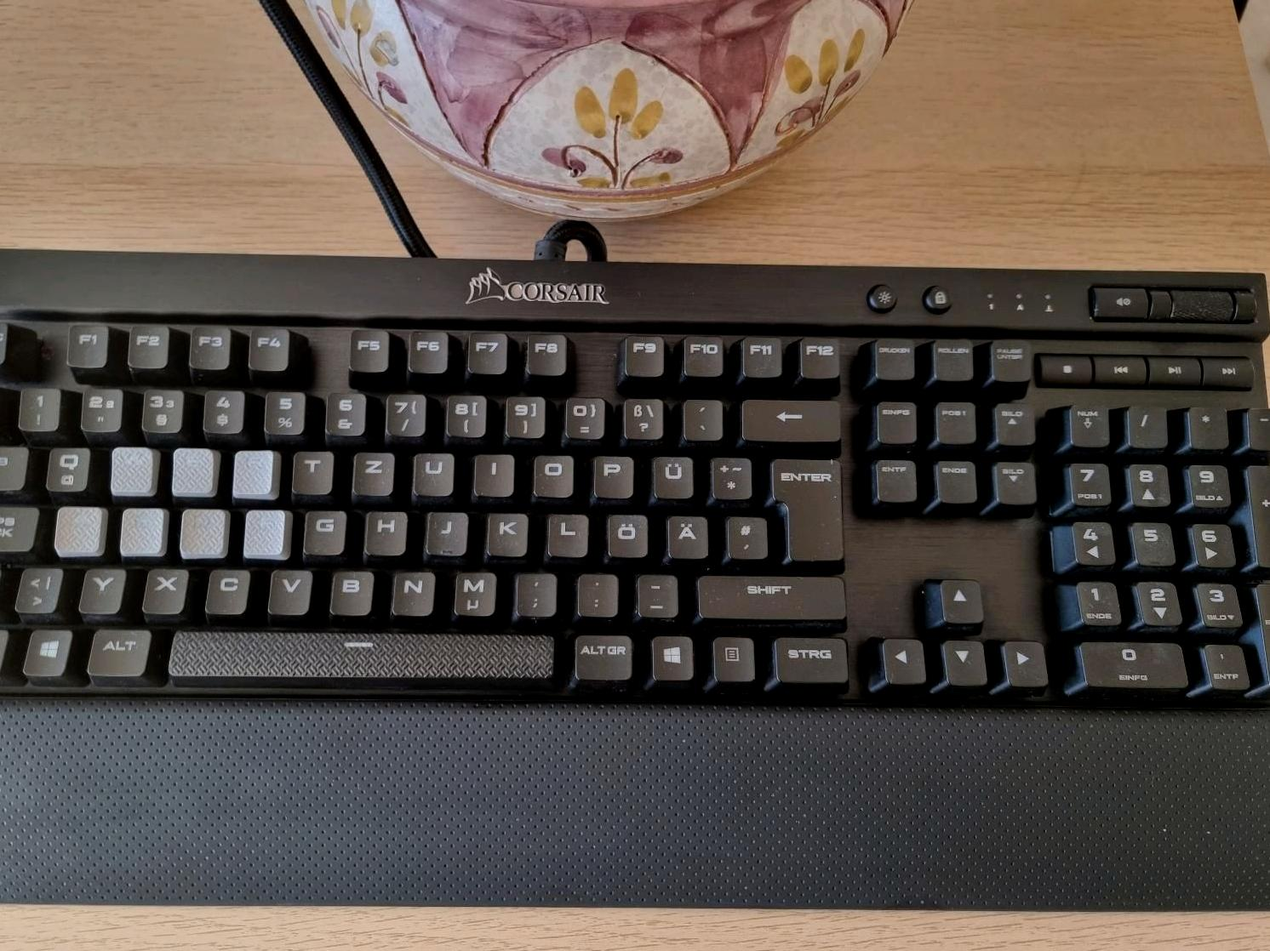0: (561, 393, 607, 438)
1: (16, 384, 60, 430)
2: (77, 385, 123, 432)
3: (139, 386, 185, 433)
4: (201, 386, 245, 432)
5: (261, 388, 306, 434)
6: (323, 388, 368, 436)
7: (384, 390, 427, 436)
8: (443, 392, 488, 437)
9: (502, 392, 546, 437)
a: (52, 504, 104, 555)
accent: (680, 396, 723, 439)
ae: (664, 510, 708, 558)
alt-left: (84, 624, 152, 675)
altgr-right: (570, 630, 634, 680)
b: (328, 567, 374, 613)
c: (203, 566, 250, 612)
caret: (1, 380, 21, 427)
comma: (512, 569, 557, 615)
d: (179, 509, 226, 559)
del: (739, 396, 840, 441)
e: (169, 445, 218, 496)
enter: (767, 453, 844, 561)
f: (241, 507, 289, 557)
g: (302, 506, 346, 554)
h: (363, 508, 408, 554)
hash: (724, 512, 767, 558)
i: (471, 450, 514, 494)
j: (423, 508, 468, 555)
k: (484, 509, 529, 555)
keyboard: (1, 311, 1270, 712)
l: (544, 510, 588, 556)
less: (13, 563, 62, 612)
m: (450, 567, 497, 615)
minus: (633, 571, 678, 616)
n: (389, 567, 436, 615)
o: (530, 452, 575, 496)
oe: (604, 510, 649, 556)
p: (590, 453, 633, 497)
plus: (707, 453, 751, 498)
point: (575, 570, 618, 615)
q: (43, 443, 90, 491)
r: (227, 448, 275, 498)
s: (117, 505, 166, 555)
shift-left: (1, 562, 33, 612)
shift-lock: (1, 502, 49, 551)
shift-right: (694, 572, 845, 618)
space: (162, 629, 560, 683)
ss: (621, 395, 665, 439)
strg-left: (1, 624, 39, 675)
strg-right: (771, 633, 850, 684)
t: (290, 447, 333, 492)
tab: (1, 442, 38, 489)
u: (411, 449, 455, 495)
ue: (649, 453, 694, 498)
v: (266, 566, 313, 613)
w: (108, 444, 157, 495)
x: (140, 565, 188, 612)
y: (77, 565, 125, 612)
z: (351, 448, 395, 493)
